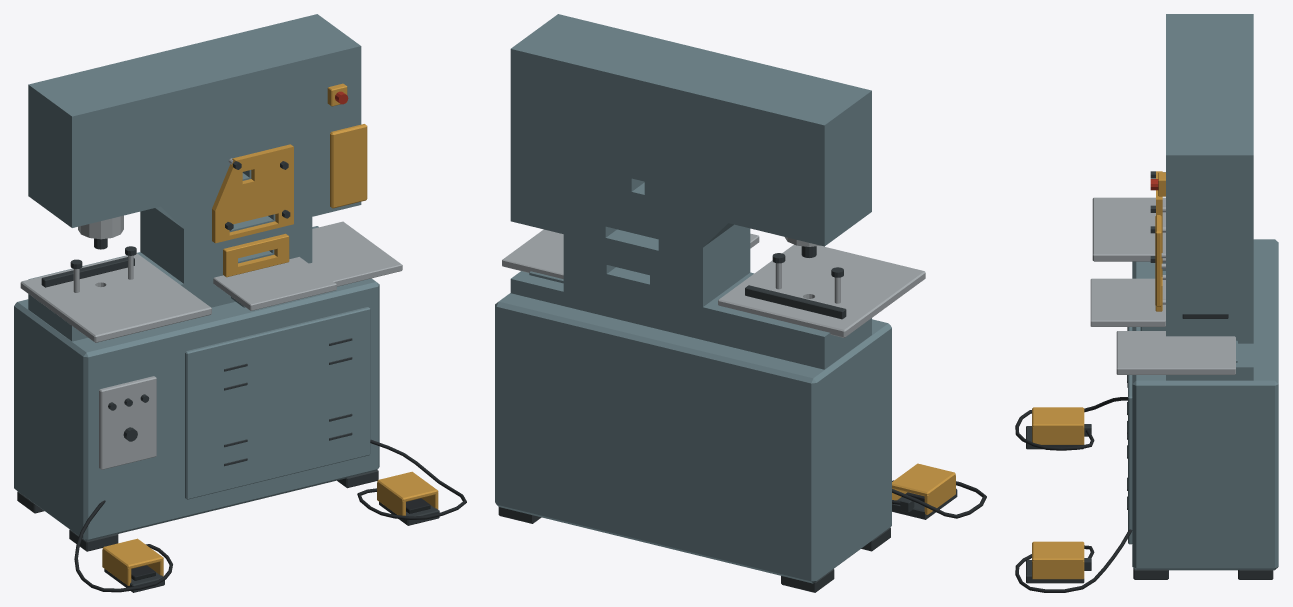
The model's file is A-NEW-20261026-HYDRAULIC-IRONWORKER-001_LOD2_R2.glb.
The picture shows the model from 3 angles, left to right: view 1: azimuth 30°, elevation 25°; view 2: azimuth 150°, elevation 25°; view 3: azimuth 270°, elevation 25°; orthographic projection. The views are drawn at different scales.
Visible parts, largest first — view 1: one continuous multi station upper body, integral lower cabinet, front service panel, left punch worktable, central guarded feed plate, left console panel, central worktable, right station worktable, right front safety plate, lower guarded feed plate, pedal hood top 1, pedal hood top -1 (+4 smaller); view 2: one continuous multi station upper body, integral lower cabinet, left punch worktable, right station worktable, pedal hood top -1, left rear fence, attached pedal cable -1; view 3: integral lower cabinet, one continuous multi station upper body, right station worktable, left punch worktable, central worktable, pedal hood top 1, pedal hood top -1, pedal hood side 1 0.09, pedal hood side -1 0.09, front service panel, attached pedal cable 1, attached pedal cable -1 (+4 smaller).
Boxes of the visible parts, left/top/right/bottom form: one continuous multi station upper body: left=28, top=14, right=361, bottom=341; integral lower cabinet: left=14, top=278, right=379, bottom=540; front service panel: left=185, top=307, right=370, bottom=499; left punch worktable: left=20, top=253, right=211, bottom=342; central guarded feed plate: left=212, top=144, right=293, bottom=243; left console panel: left=99, top=376, right=156, bottom=469; central worktable: left=213, top=257, right=336, bottom=310; right station worktable: left=309, top=221, right=402, bottom=286; right front safety plate: left=330, top=124, right=367, bottom=208; lower guarded feed plate: left=223, top=233, right=289, bottom=277; pedal hood top 1: left=377, top=471, right=438, bottom=501; pedal hood top -1: left=102, top=538, right=163, bottom=568; one continuous multi station upper body: left=510, top=14, right=871, bottom=369; integral lower cabinet: left=495, top=293, right=891, bottom=583; left punch worktable: left=718, top=244, right=925, bottom=337; right station worktable: left=502, top=229, right=563, bottom=279; pedal hood top -1: left=892, top=463, right=955, bottom=496; left rear fence: left=745, top=285, right=846, bottom=319; attached pedal cable -1: left=892, top=480, right=986, bottom=518; integral lower cabinet: left=1132, top=239, right=1278, bottom=570; one continuous multi station upper body: left=1166, top=14, right=1253, bottom=380; right station worktable: left=1116, top=331, right=1235, bottom=374; left punch worktable: left=1092, top=197, right=1165, bottom=261; central worktable: left=1090, top=278, right=1165, bottom=326; pedal hood top 1: left=1032, top=541, right=1084, bottom=562; pedal hood top -1: left=1032, top=407, right=1084, bottom=427; pedal hood side 1 0.09: left=1032, top=561, right=1084, bottom=579; pedal hood side -1 0.09: left=1032, top=426, right=1084, bottom=444; front service panel: left=1128, top=327, right=1132, bottom=544; attached pedal cable 1: left=1015, top=529, right=1132, bottom=592; attached pedal cable -1: left=1015, top=397, right=1127, bottom=450.
Size of the model in its own units: 2.06 by 2.24 by 1.26.
